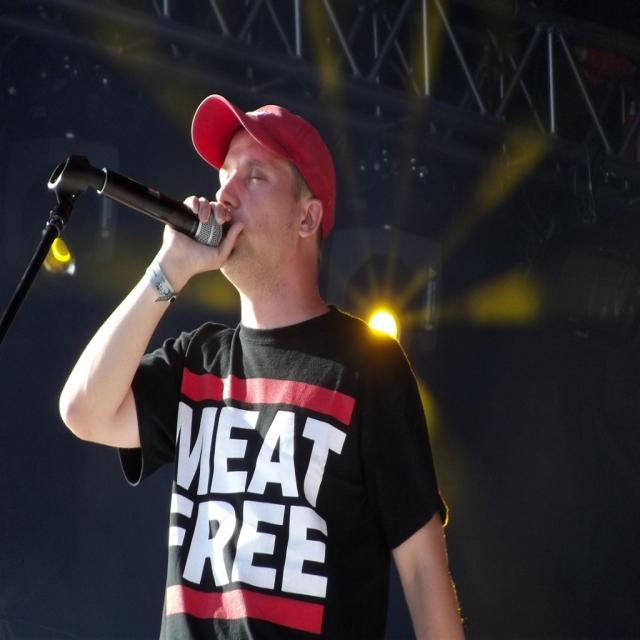Hat: (190, 92, 336, 243)
